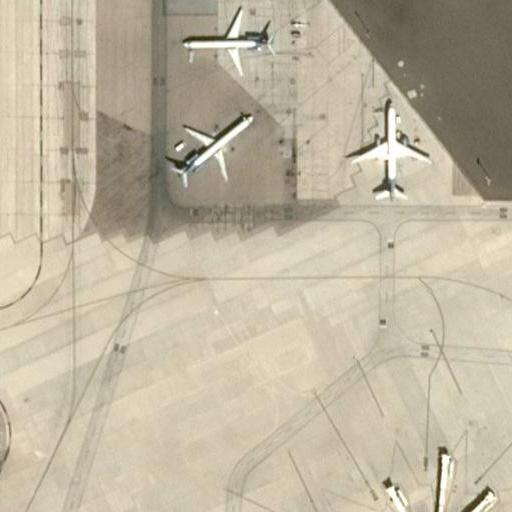Aircraft: (342, 89, 437, 202), (157, 102, 255, 187), (175, 5, 275, 76)
